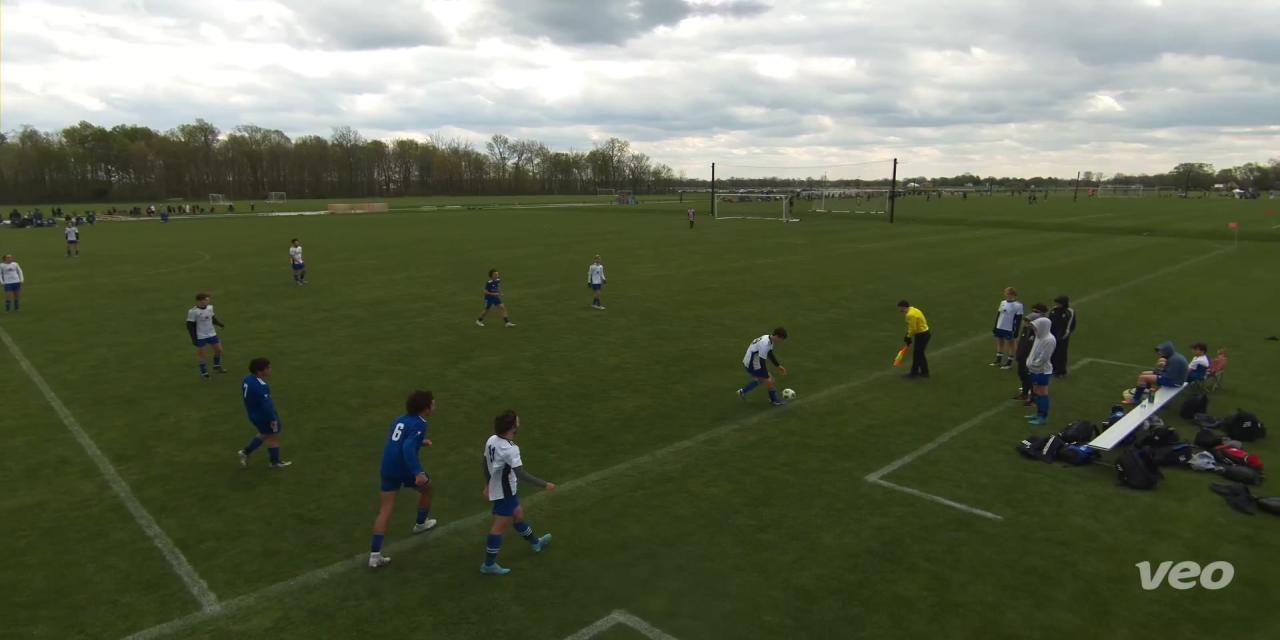goal: (707, 186, 806, 230)
sports ball: (780, 384, 800, 404)
